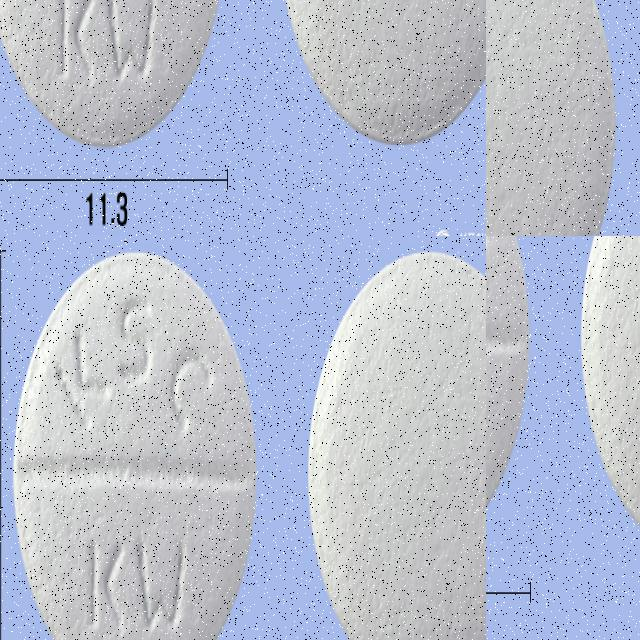K-Sacin: (581, 236, 640, 556), (486, 236, 530, 560)
Levofuracin: (120, 0, 284, 236)
Myungmoon Amoclan Tab: (486, 0, 640, 119)
Suprax Cap- Dong-A: (12, 479, 353, 640), (240, 236, 486, 451)
